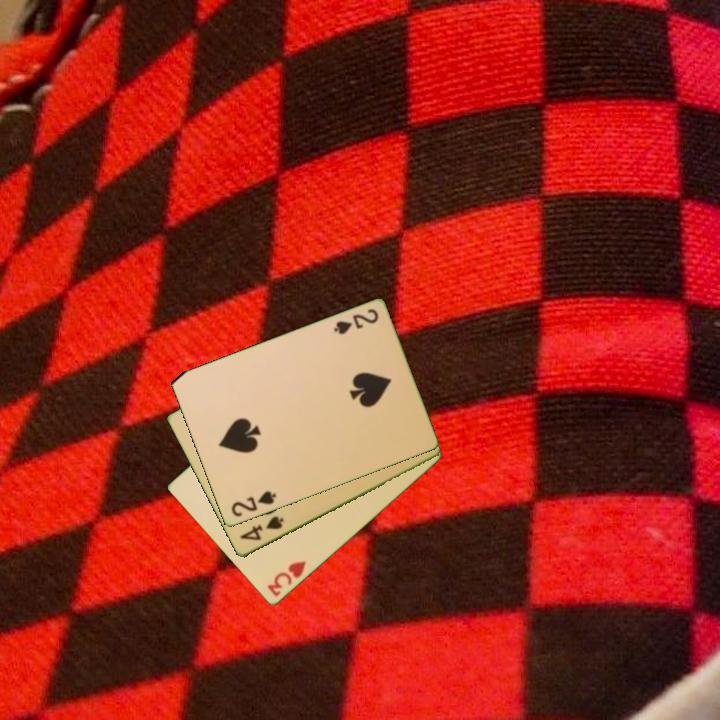2s: (330, 305, 381, 338), (227, 488, 279, 520)
3h: (264, 558, 309, 600)
4s: (236, 513, 287, 544)
